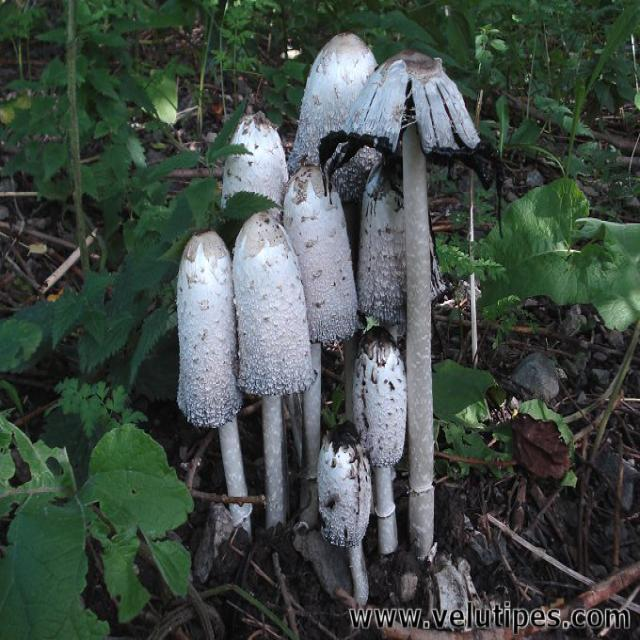Coprinus comatus: (321, 53, 485, 550), (234, 212, 312, 518), (285, 162, 359, 480), (179, 229, 251, 526), (288, 32, 387, 169), (350, 325, 406, 546), (317, 426, 372, 597), (221, 109, 288, 215)
